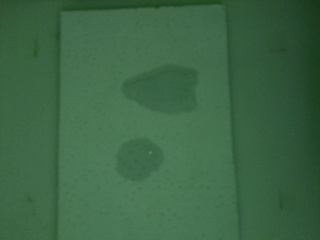Water_detected: (135, 73, 191, 111), (126, 149, 160, 173)
